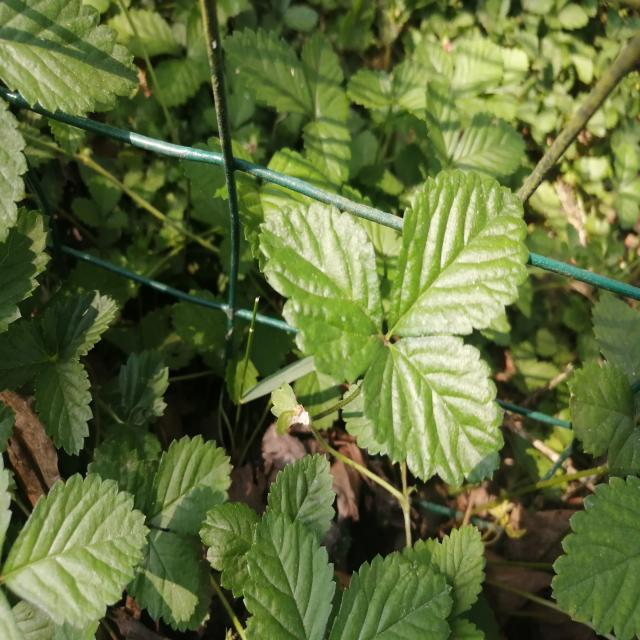Mock_strawberry: (231, 463, 487, 639)
